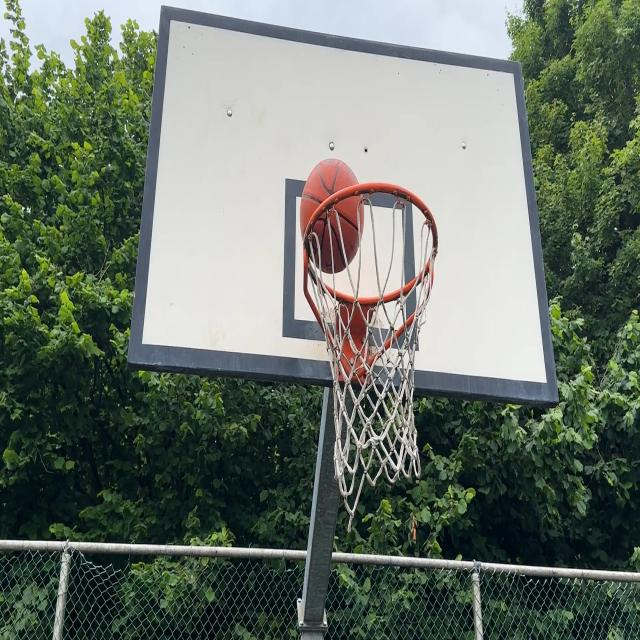rebound_hit: (300, 158, 365, 276)
